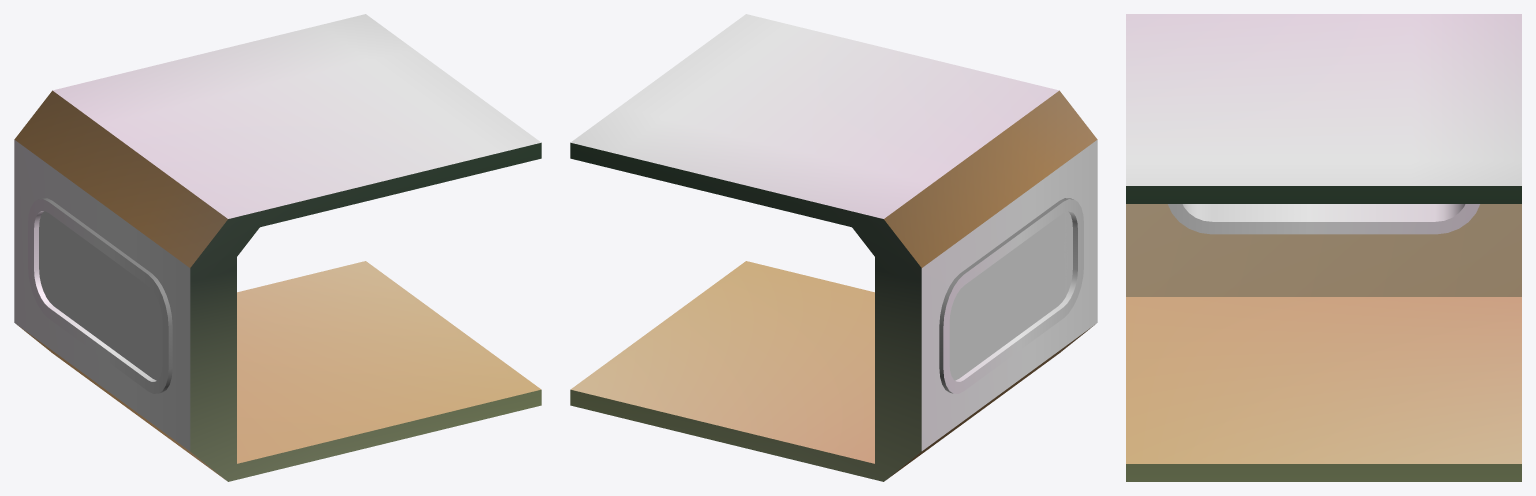
Rendered from R_OutWall_Window.fbx.
3 views of the same model, side by side, from view 1: azimuth 30°, elevation 25°; view 2: azimuth 150°, elevation 25°; view 3: azimuth 270°, elevation 25° (orthographic). The views are drawn at different scales.
Visible parts, largest first — view 1: R_OutWall_Window; view 2: R_OutWall_Window; view 3: R_OutWall_Window.
Boxes of the visible parts, left/top/right/bottom form: R_OutWall_Window: left=14, top=14, right=541, bottom=481; R_OutWall_Window: left=570, top=14, right=1097, bottom=481; R_OutWall_Window: left=1126, top=14, right=1521, bottom=481.
Size of the model in its own units: 467 by 330 by 400.
